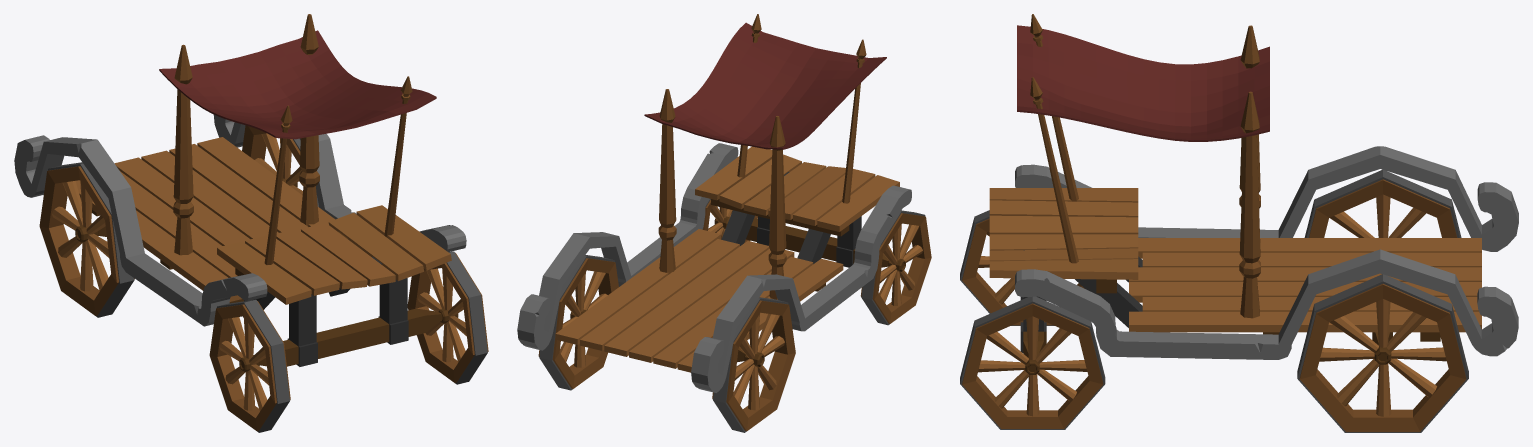
File: C_B_CarriageRed.fbx
3 renders of one model, left to right at view 1: azimuth 30°, elevation 25°; view 2: azimuth 150°, elevation 25°; view 3: azimuth 270°, elevation 25°, orthographic. The views are drawn at different scales.
Parts seen in each view (by area): view 1: C_B_CarriageRed, C_Wheel.025, C_Wheel.011, C_Wheel.009, C_Wheel.008; view 2: C_B_CarriageRed, C_Wheel.025, C_Wheel.011, C_Wheel.008, C_Wheel.009; view 3: C_B_CarriageRed, C_Wheel.008, C_Wheel.009, C_Wheel.025, C_Wheel.011.
Boxes of the visible parts, x1,y1,x2,y2 form: C_B_CarriageRed: (14,14,466,366); C_Wheel.025: (39,162,134,317); C_Wheel.011: (209,299,290,432); C_Wheel.009: (407,251,488,384); C_Wheel.008: (242,125,318,206); C_B_CarriageRed: (517,14,911,392); C_Wheel.025: (712,297,795,432); C_Wheel.011: (860,210,931,325); C_Wheel.008: (538,255,618,390); C_Wheel.009: (702,198,757,242); C_B_CarriageRed: (989,14,1518,359); C_Wheel.008: (1297,274,1468,432); C_Wheel.009: (960,296,1105,429); C_Wheel.025: (1304,169,1461,237); C_Wheel.011: (960,210,1084,325).
Size of the model in its own units: 299 by 403 by 617.
